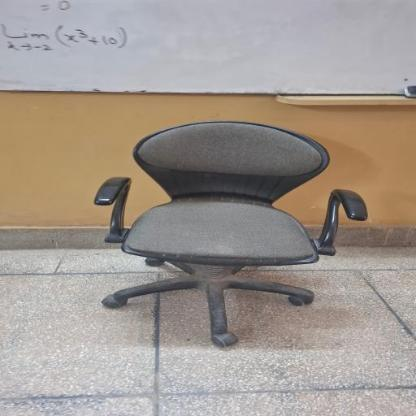chair: (89, 115, 375, 357)
